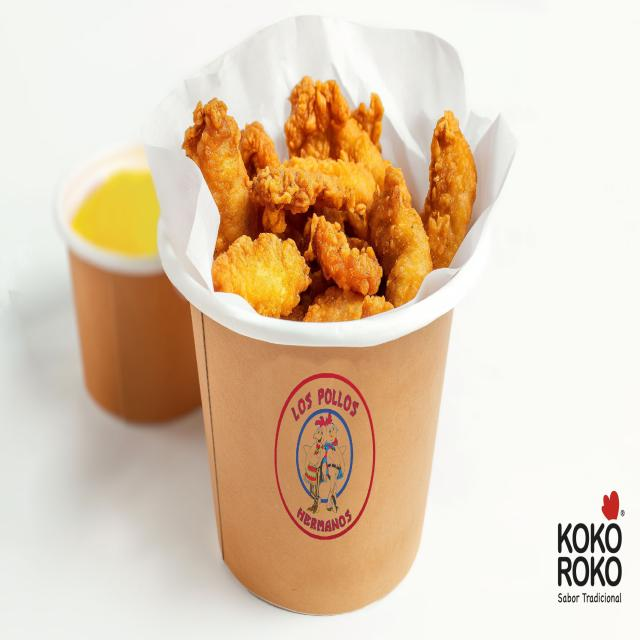pollo: (181, 59, 471, 314)
